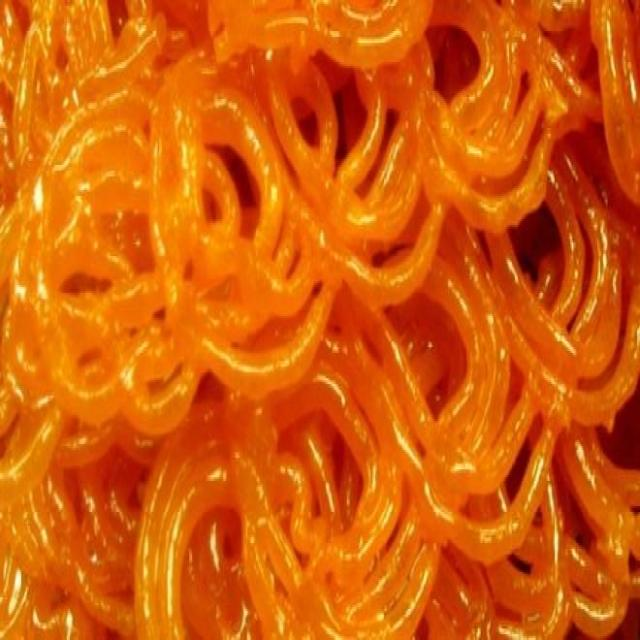jalebi: (2, 0, 640, 636)
